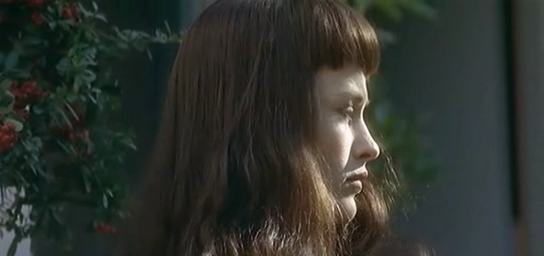cu: (1, 1, 544, 256)
face: (309, 54, 380, 223)
person: (102, 1, 434, 256)
